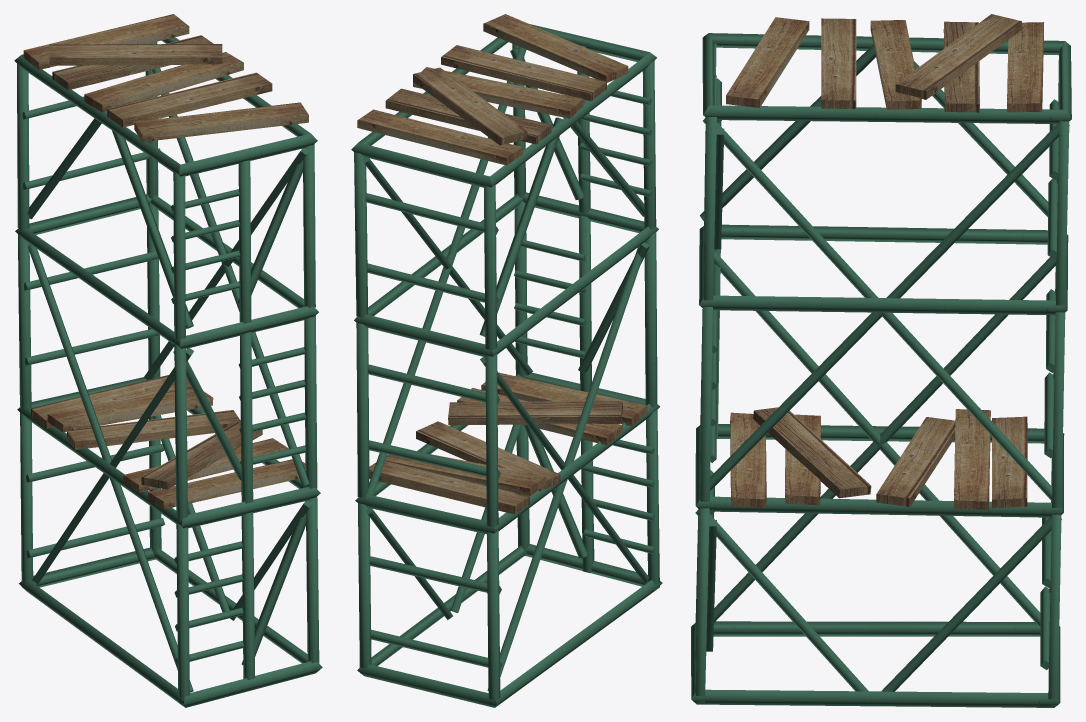
Rendered from Shelves_big01.FBX.
3 renders of one model, left to right at view 1: azimuth 30°, elevation 25°; view 2: azimuth 150°, elevation 25°; view 3: azimuth 270°, elevation 25°, orthographic. The views are drawn at different scales.
Parts seen in each view (by area): view 1: Shelves_big01; view 2: Shelves_big01; view 3: Shelves_big01.
Part boxes in pixels (box(x1,y1,x2,y2)): Shelves_big01: box(14, 14, 322, 707); Shelves_big01: box(351, 14, 662, 707); Shelves_big01: box(691, 14, 1071, 707).
Bounding box in the file's own units: 55.31 × 194 × 108.
